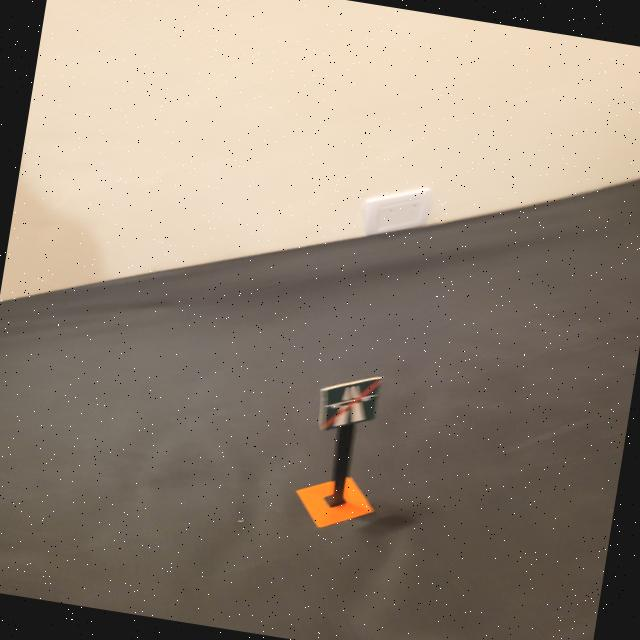highway_exit: (314, 366, 385, 439)
